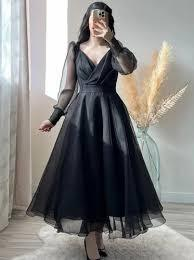dress: (24, 35, 169, 237)
